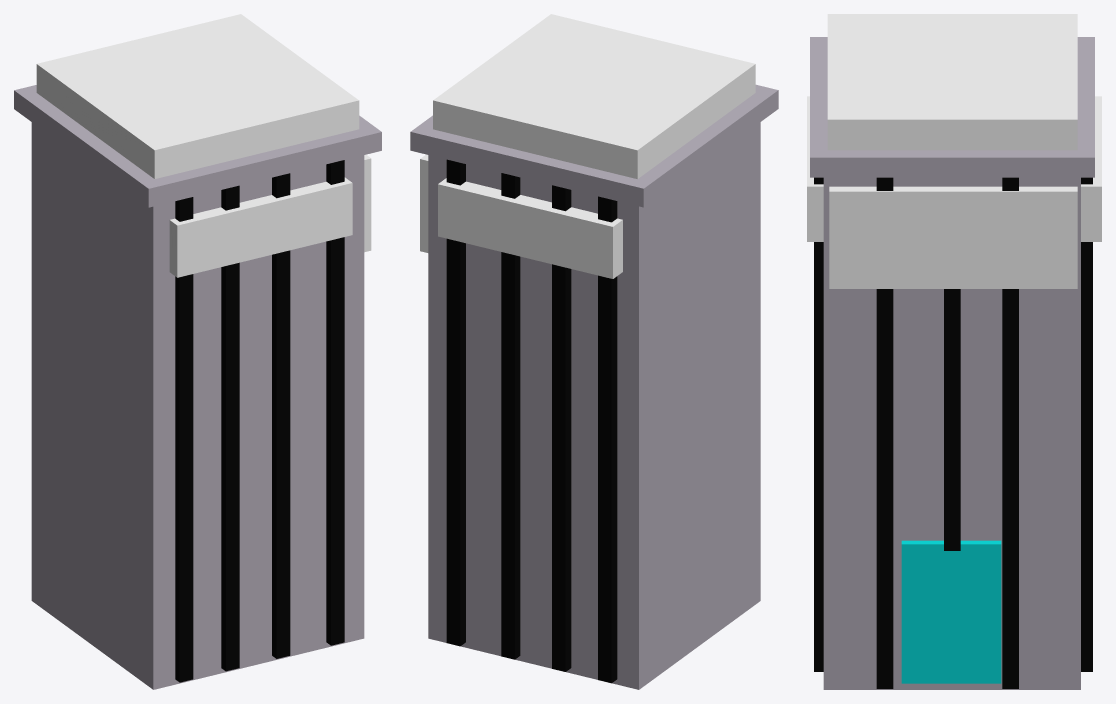
Rendered from town4.fbx.
The picture shows the model from 3 angles, left to right: view 1: azimuth 30°, elevation 25°; view 2: azimuth 150°, elevation 25°; view 3: azimuth 270°, elevation 25°; orthographic projection. The views are drawn at different scales.
Parts seen in each view (by area): view 1: pCube1, pCube39, pCube15, pCube10, pCube12, pCube11, pCube9, pCube13; view 2: pCube1, pCube39, pCube14, pCube8, pCube5, pCube6, pCube7, pCube13; view 3: pCube1, pCube39, pCube13, pCube16, pCube4, pCube3, pCube5, pCube2, pCube9, pCube14, pCube15.
Part boxes in pixels (x1,y1,x2,y2): pCube1: (14, 85, 381, 689); pCube39: (36, 14, 359, 178); pCube15: (169, 177, 352, 277); pCube10: (272, 173, 290, 658); pCube12: (175, 197, 193, 682); pCube11: (221, 185, 239, 671); pCube9: (326, 160, 344, 645); pCube13: (364, 154, 371, 252); pCube1: (410, 84, 778, 689); pCube39: (433, 14, 755, 178); pCube14: (438, 178, 622, 278); pCube8: (598, 196, 617, 683); pCube5: (446, 159, 465, 646); pCube6: (501, 173, 520, 659); pCube7: (552, 185, 571, 671); pCube13: (420, 154, 428, 252); pCube1: (810, 37, 1094, 689); pCube39: (827, 14, 1077, 150); pCube13: (829, 186, 1077, 288); pCube16: (901, 540, 1001, 683); pCube4: (876, 177, 893, 688); pCube3: (1002, 177, 1018, 688); pCube5: (1081, 177, 1092, 671); pCube2: (944, 289, 960, 550); pCube9: (814, 177, 823, 671); pCube14: (1081, 96, 1101, 241); pCube15: (807, 96, 823, 241).
Bounding box in the file's own units: 6.74 × 14.84 × 6.97.
